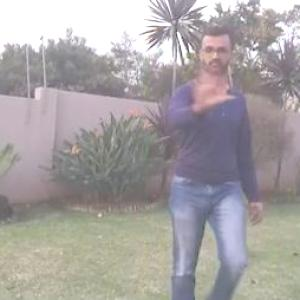follow_hand: (187, 62, 235, 114)
